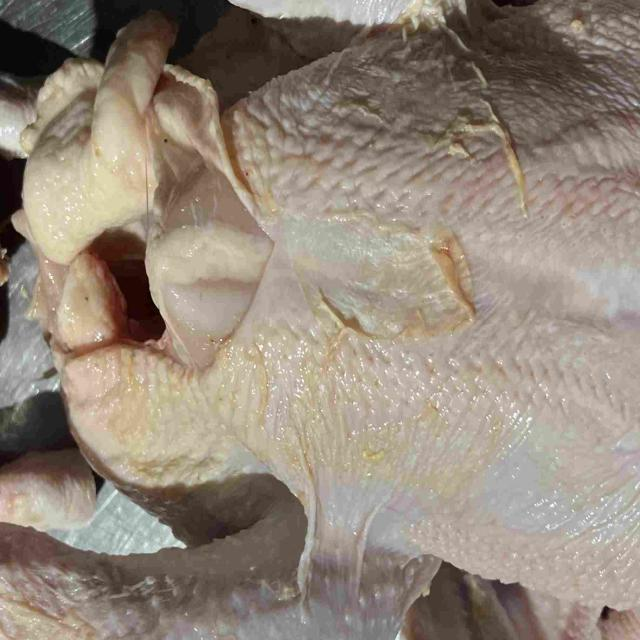breast: (142, 10, 640, 602)
leg: (0, 514, 428, 640)
wing: (404, 562, 615, 640)
